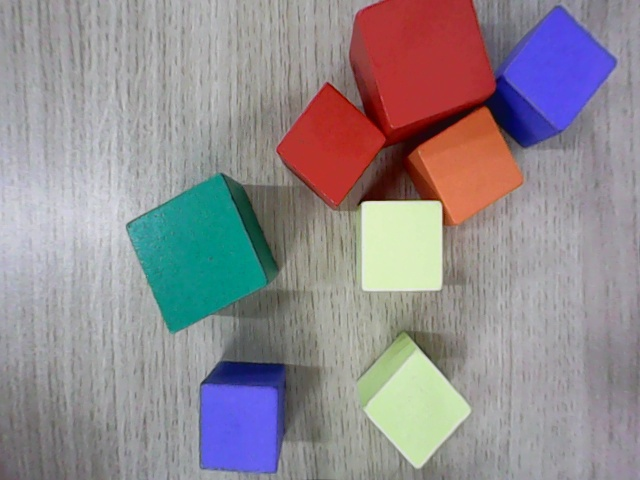upside of big cube: (124, 173, 269, 337), (355, 0, 496, 130)
upside of small cube: (502, 4, 618, 133), (275, 82, 389, 207), (361, 347, 473, 470), (416, 104, 524, 226), (361, 200, 443, 291), (199, 384, 279, 474)
